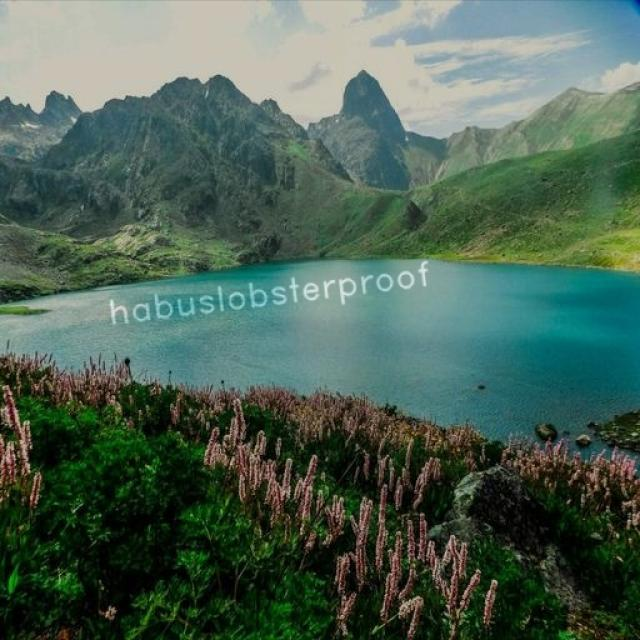watermark: (100, 258, 433, 330)
